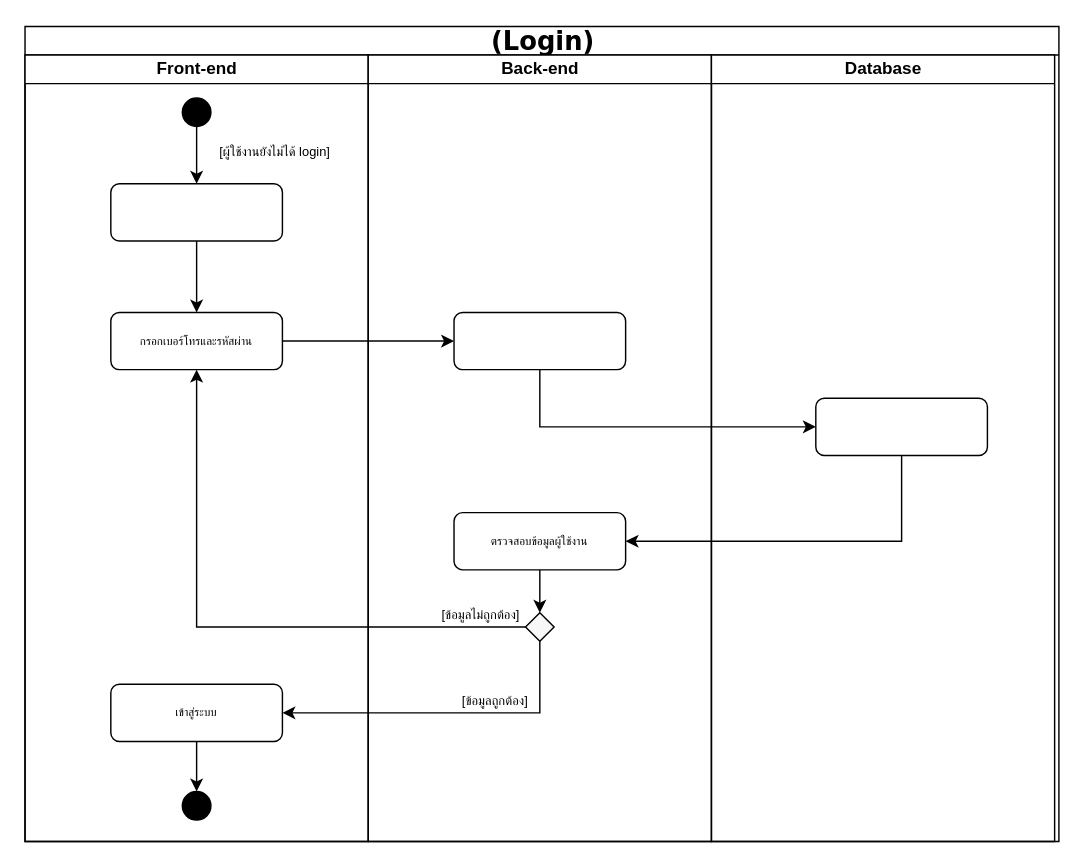
The diagram is 1084 pixels wide and 867 high, and some of its shapes have lost their labels. The shapes that lost their labels are listed below. From the top down, each one's centre as x and y in pixels, then its label:
At point (195, 211): "เปิดแอป".
At point (539, 340): "รับข้อมูลผู้ใช้งาน".
At point (900, 426): "ดึงข้อมูลผู้ใช้งาน".
